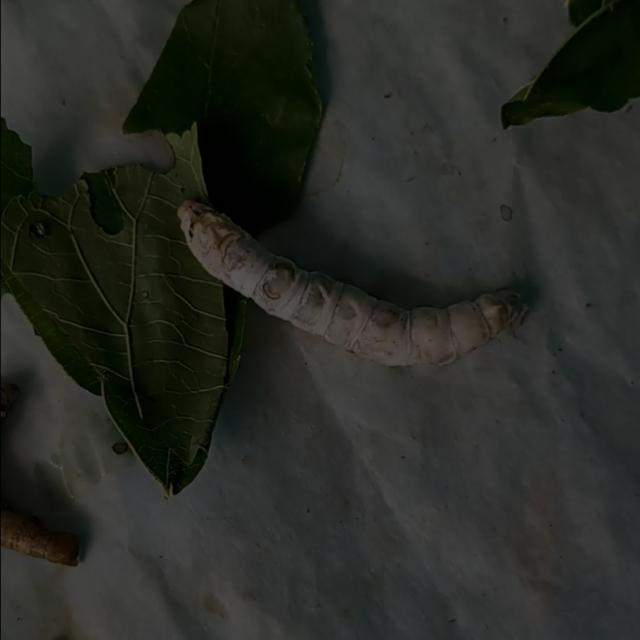Grasserie: (146, 168, 554, 388)
